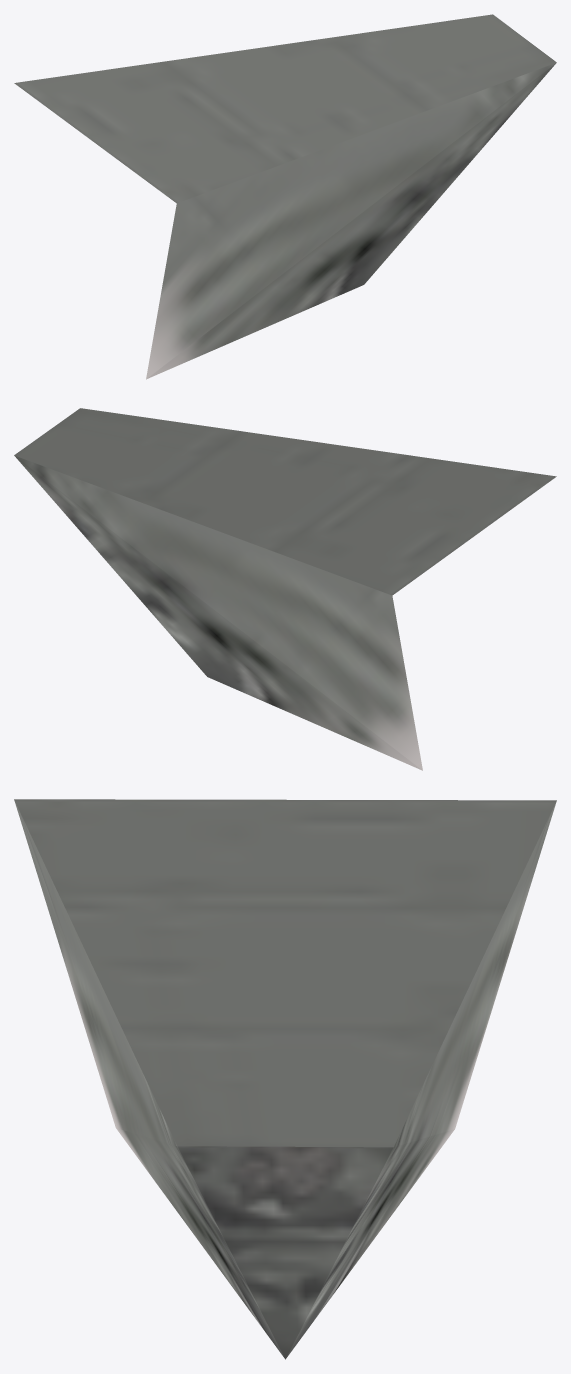
The picture shows the model from 3 angles, top to bottom: view 1: azimuth 30°, elevation 25°; view 2: azimuth 150°, elevation 25°; view 3: azimuth 270°, elevation 25°; orthographic projection. The views are drawn at different scales.
Visible parts, largest first — view 1: Box13; view 2: Box13; view 3: Box13.
Part boxes in pixels (x1,y1,x2,y2): Box13: (14, 14, 556, 379); Box13: (14, 408, 556, 770); Box13: (14, 799, 556, 1359).
Size of the model in its own units: 282 by 129 by 186.
1 material, 1 textured.
